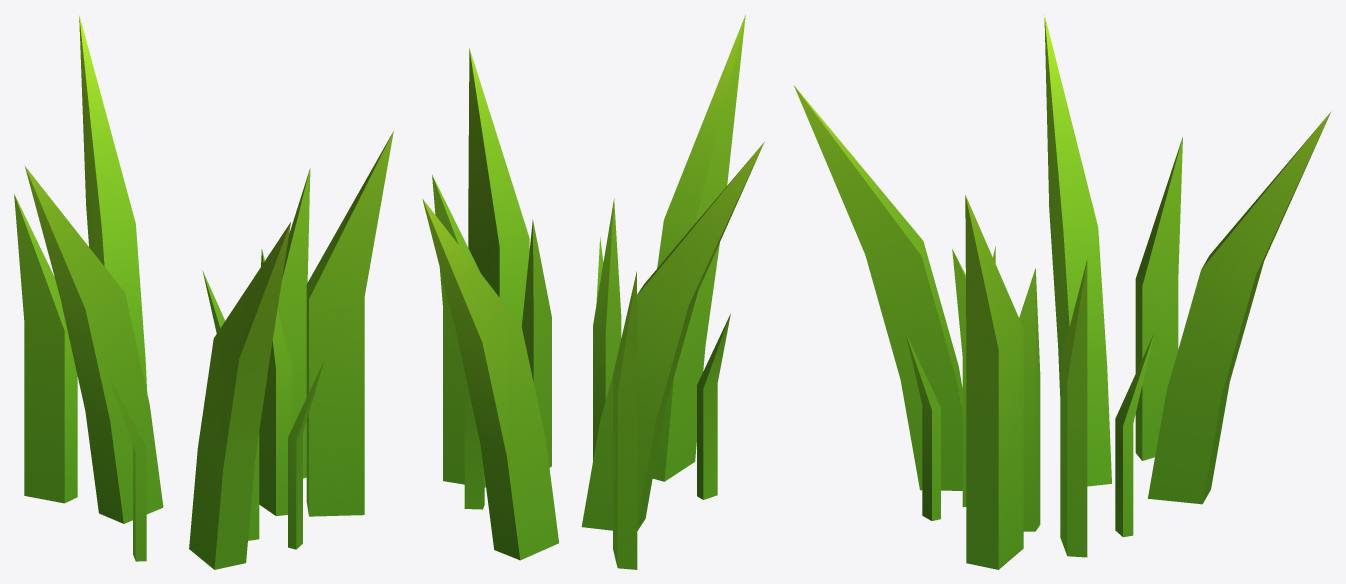
File: Grass Patch_001.fbx
3 renders of one model, left to right at view 1: azimuth 30°, elevation 25°; view 2: azimuth 150°, elevation 25°; view 3: azimuth 270°, elevation 25°, orthographic.
Visible parts, largest first — view 1: Grass_Set_Medium_Grass_Patch_001; view 2: Grass_Set_Medium_Grass_Patch_001; view 3: Grass_Set_Medium_Grass_Patch_001.
Part boxes in pixels (<box>): Grass_Set_Medium_Grass_Patch_001: <box>14,15,393,569</box>; Grass_Set_Medium_Grass_Patch_001: <box>422,15,764,569</box>; Grass_Set_Medium_Grass_Patch_001: <box>793,14,1331,569</box>.
Size of the model in its own units: 13.71 by 15.67 by 19.09.
